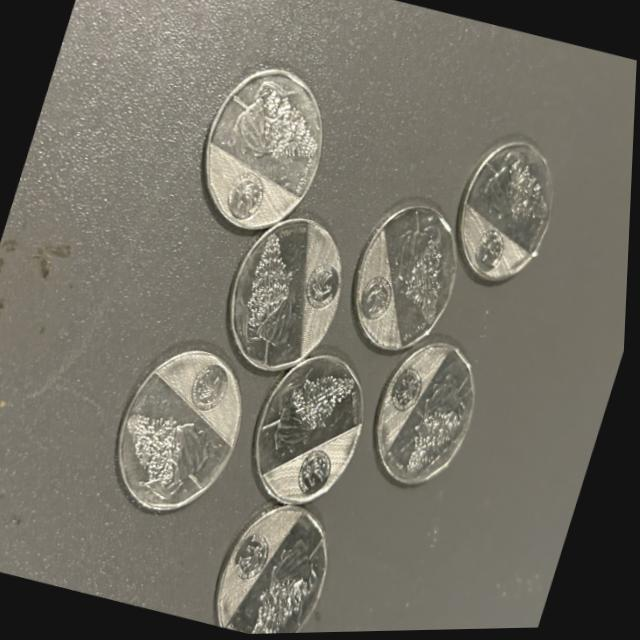10_New_Back: (193, 73, 336, 239), (124, 347, 248, 506), (219, 219, 344, 375), (369, 351, 476, 493), (451, 147, 558, 281), (349, 230, 459, 359), (267, 358, 372, 493), (231, 516, 335, 636)
